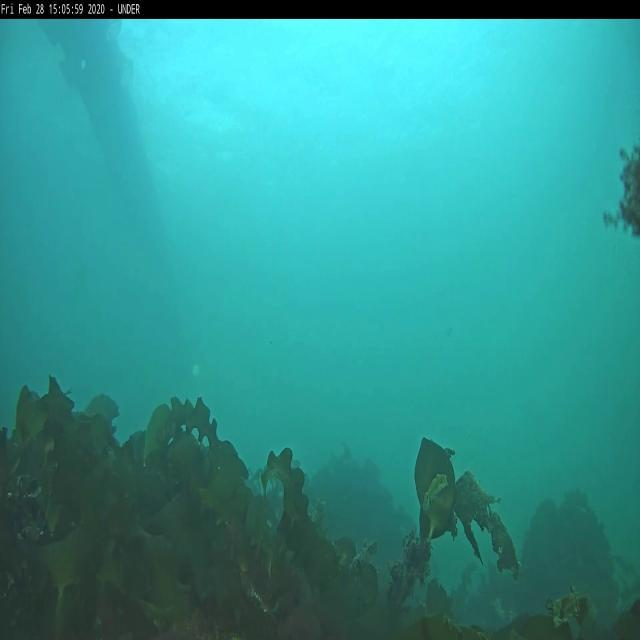fish: (423, 470, 448, 514)
